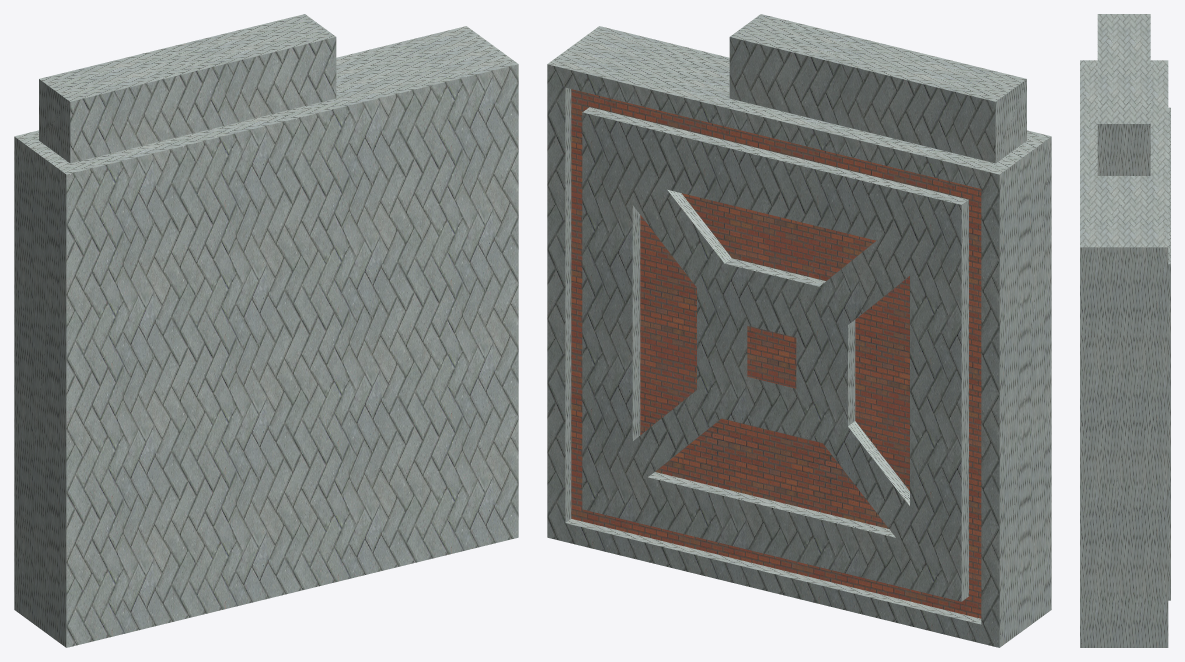
The model's file is BigDoor.fbx.
The picture shows the model from 3 angles, left to right: view 1: azimuth 30°, elevation 25°; view 2: azimuth 150°, elevation 25°; view 3: azimuth 270°, elevation 25°; orthographic projection. The views are drawn at different scales.
Visible parts, largest first — view 1: Box001; view 2: Box001; view 3: Box001.
Part boxes in pixels (x1=…): Box001: x1=14, y1=14, x2=518, y2=647; Box001: x1=547, y1=14, x2=1051, y2=647; Box001: x1=1080, y1=14, x2=1170, y2=647.
Size of the model in its own units: 40 by 8.23 by 45.21.
Materials: 2 (2 with a texture image).
